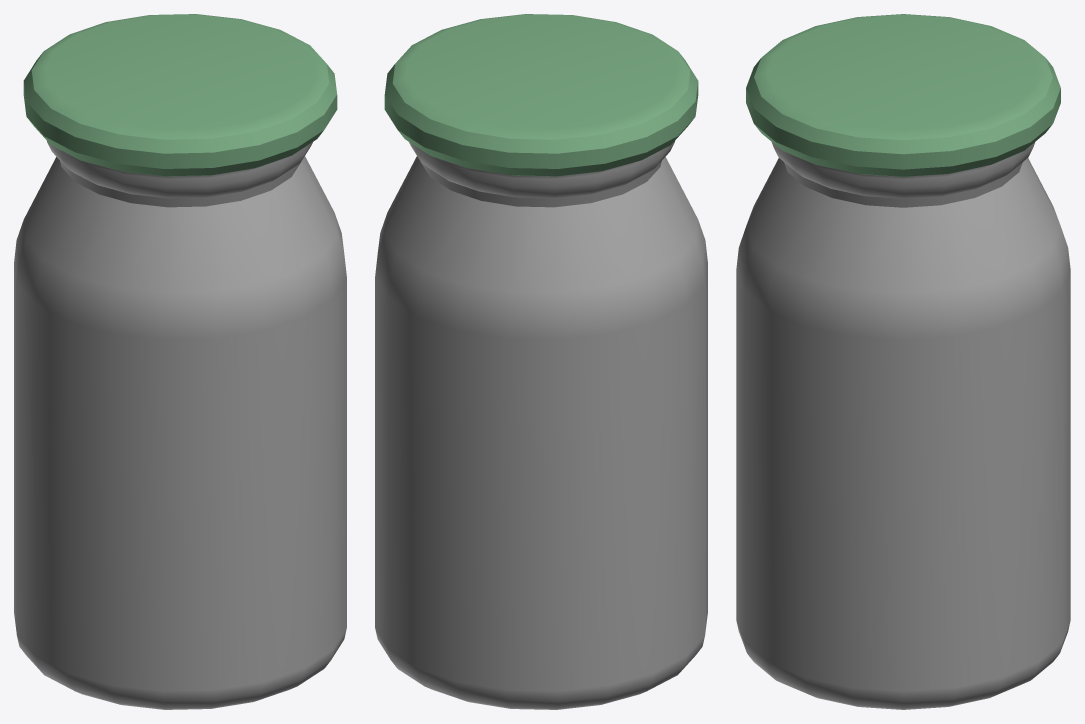
Rendered from S2_FruitTea.fbx.
3 renders of one model, left to right at view 1: azimuth 30°, elevation 25°; view 2: azimuth 150°, elevation 25°; view 3: azimuth 270°, elevation 25°, orthographic.
Parts seen in each view (by area): view 1: S2_FruitTea; view 2: S2_FruitTea; view 3: S2_FruitTea.
Boxes of the visible parts, left/top/right/bottom form: S2_FruitTea: left=14, top=14, right=346, bottom=709; S2_FruitTea: left=375, top=14, right=707, bottom=709; S2_FruitTea: left=736, top=14, right=1070, bottom=709.
Bounding box in the file's own units: 825 × 1574 × 825.
